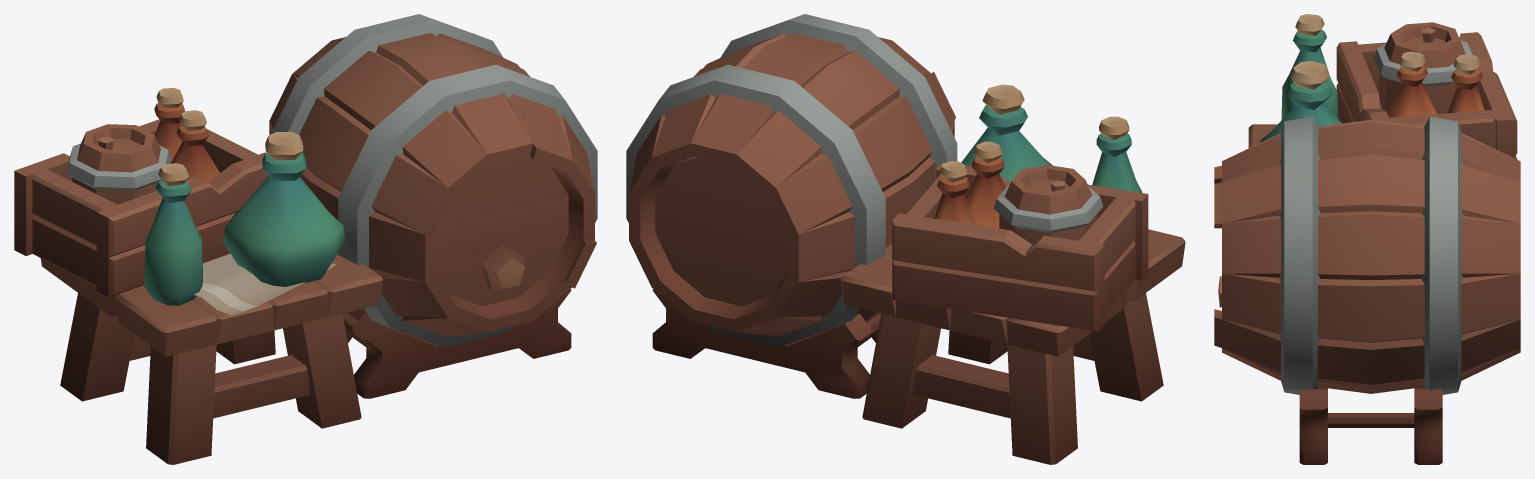
File: keg-decorated.glb
3 views of the same model, side by side, from view 1: azimuth 30°, elevation 25°; view 2: azimuth 150°, elevation 25°; view 3: azimuth 270°, elevation 25° (orthographic). The views are drawn at different scales.
Visible parts, largest first — view 1: keg-decorated; view 2: keg-decorated; view 3: keg-decorated.
Part boxes in pixels (<box>): keg-decorated: <box>14,14,597,464</box>; keg-decorated: <box>626,14,1185,464</box>; keg-decorated: <box>1214,14,1520,464</box>.
Size of the model in its own units: 1.97 by 1.15 by 1.12.
